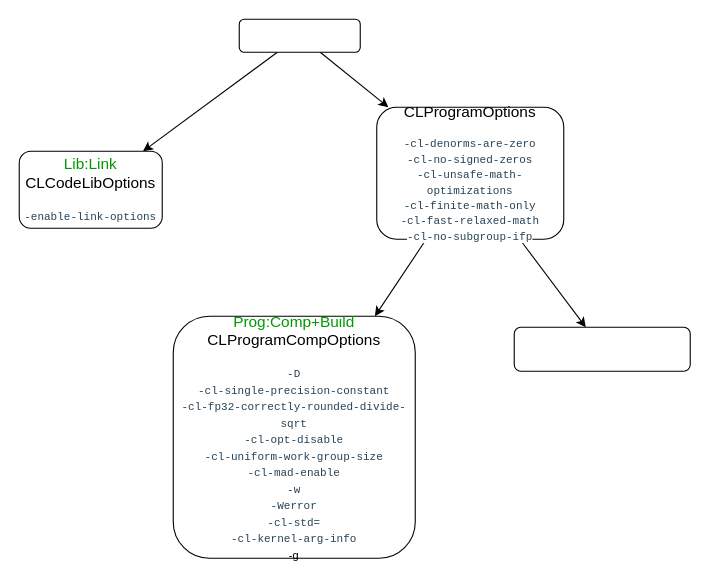
Image size: 710x581. Some labels were removed from this diagram. The box of each missing label's shape, as (x1, y1, x2, y2) in pixels:
CLCodeOptions: (238, 18, 360, 52)
Prog:Link CLProgramLinkOptions: (513, 326, 690, 371)
